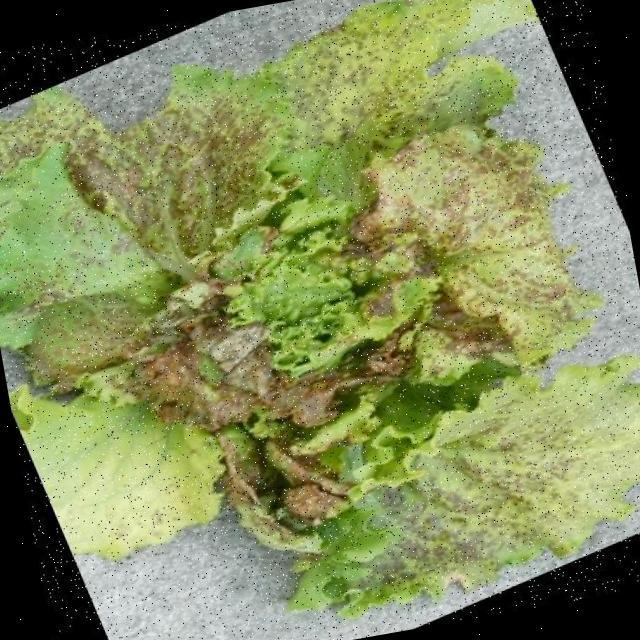Bacterial: (81, 0, 640, 605)
